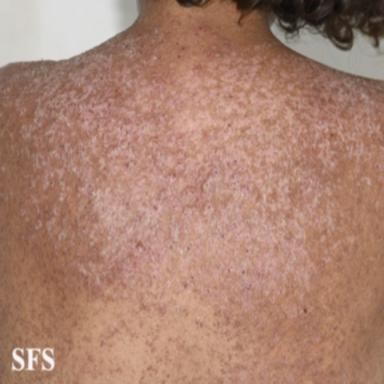Darier_s-Disease: (0, 24, 384, 383)
